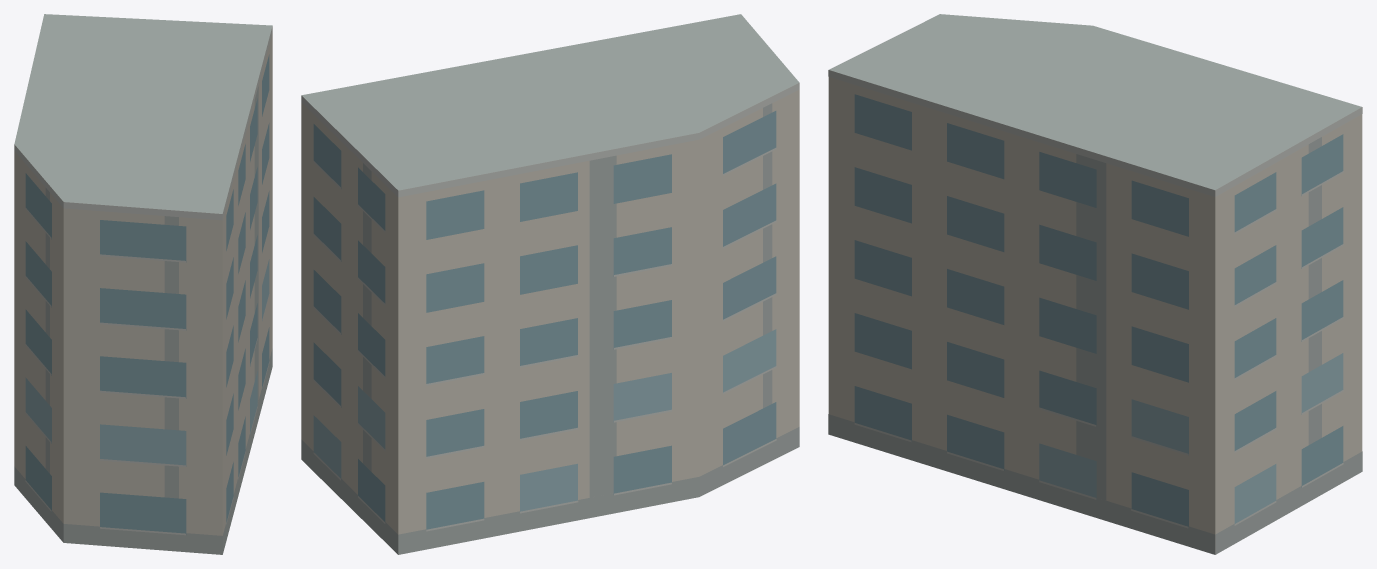
The model's file is survey-upis-33001692.glb.
3 renders of one model, left to right at view 1: azimuth 30°, elevation 25°; view 2: azimuth 150°, elevation 25°; view 3: azimuth 270°, elevation 25°, orthographic. The views are drawn at different scales.
Parts seen in each view (by area): view 1: survey-upis-33001692.tmp; view 2: survey-upis-33001692.tmp; view 3: survey-upis-33001692.tmp.
Part boxes in pixels (x1,y1,x2,y2): survey-upis-33001692.tmp: [14, 14, 272, 554]; survey-upis-33001692.tmp: [301, 14, 799, 554]; survey-upis-33001692.tmp: [828, 14, 1362, 554].
Size of the model in its own units: 13.49 by 13 by 17.26.
